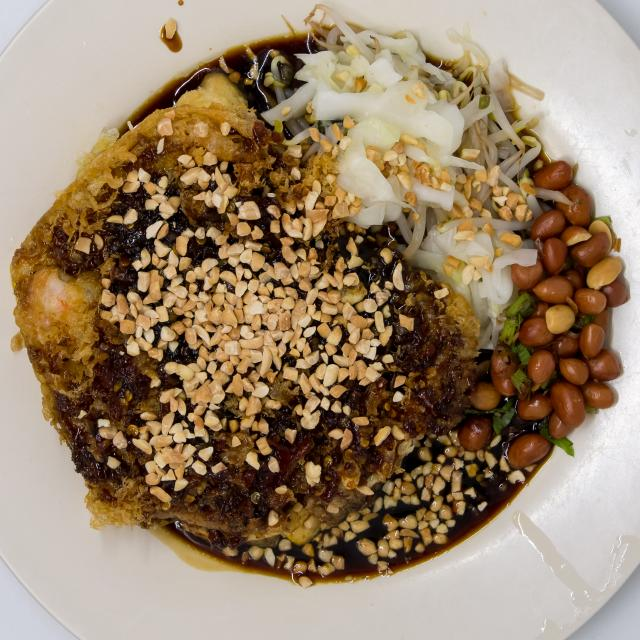Tahu-Telur: (21, 9, 628, 592)
